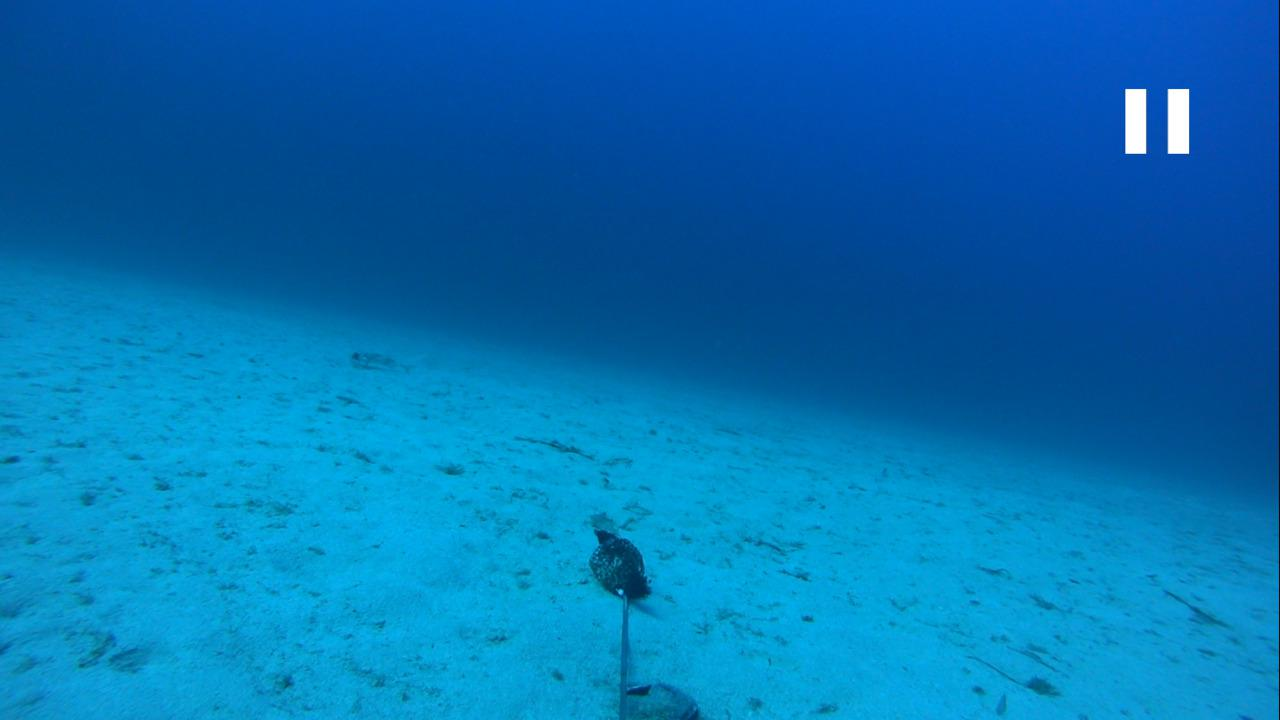dactylopterus: (338, 346, 408, 375)
